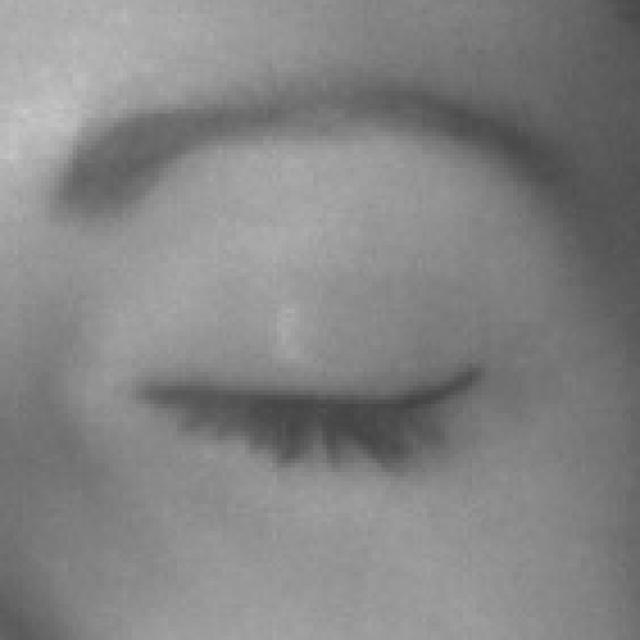close: (1, 48, 640, 556)
